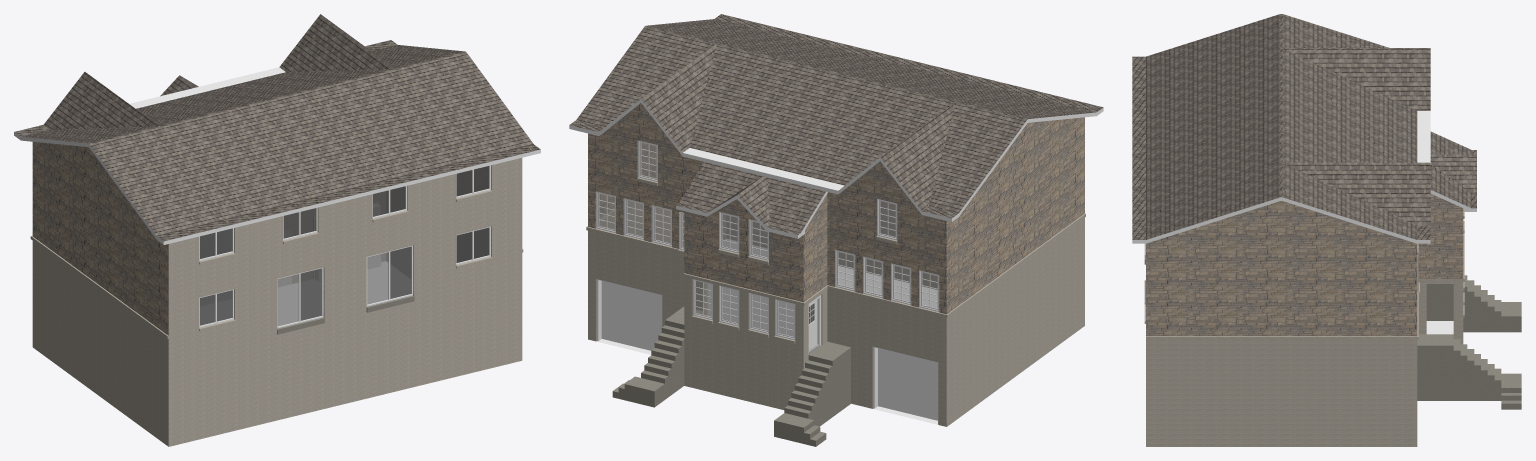
The model's file is Gravity Optical Inc1.fbx.
The picture shows the model from 3 angles, left to right: view 1: azimuth 30°, elevation 25°; view 2: azimuth 150°, elevation 25°; view 3: azimuth 270°, elevation 25°; orthographic projection.
Visible parts, largest first — view 1: Gravity Optical Inc_SUNPARK (version 1.0); view 2: Gravity Optical Inc_SUNPARK (version 1.0); view 3: Gravity Optical Inc_SUNPARK (version 1.0).
Part boxes in pixels (x1=…): Gravity Optical Inc_SUNPARK (version 1.0): x1=14, y1=14, x2=540, y2=446; Gravity Optical Inc_SUNPARK (version 1.0): x1=569, y1=14, x2=1103, y2=446; Gravity Optical Inc_SUNPARK (version 1.0): x1=1132, y1=14, x2=1521, y2=446.
Size of the model in its own units: 1600 by 1040 by 1435.
13 materials, 7 textured.
